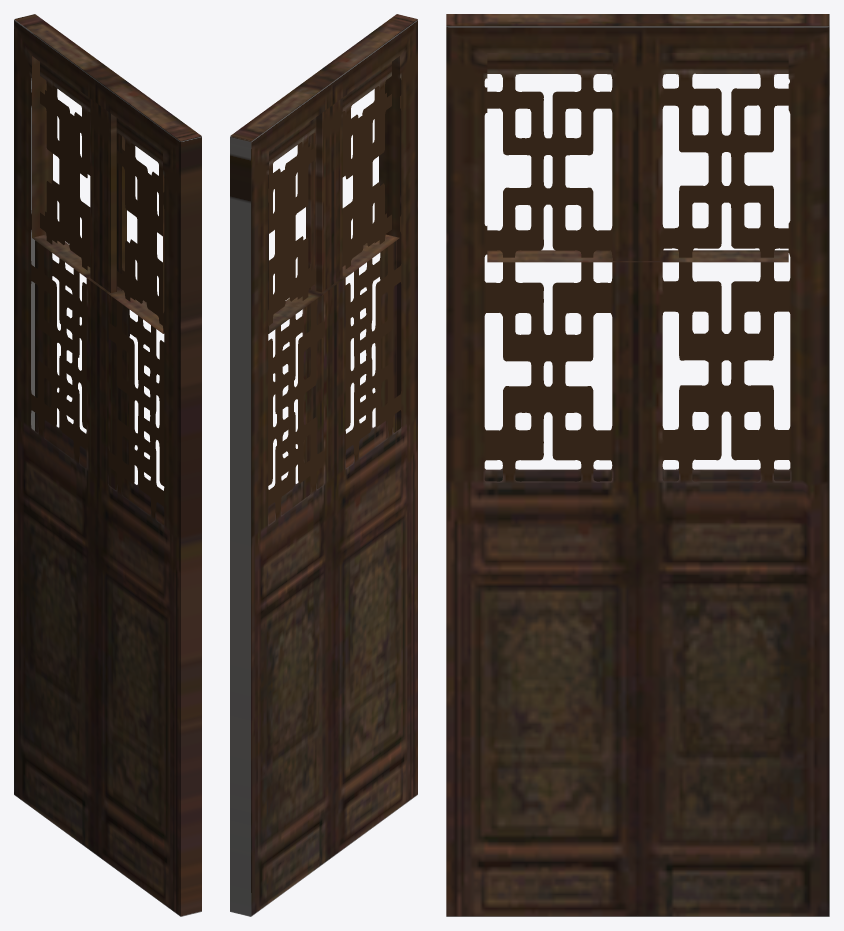
The model's file is Door_02.FBX.
The picture shows the model from 3 angles, left to right: view 1: azimuth 30°, elevation 25°; view 2: azimuth 150°, elevation 25°; view 3: azimuth 270°, elevation 25°; orthographic projection. The views are drawn at different scales.
Parts seen in each view (by area): view 1: Door_01; view 2: Door_01; view 3: Door_01.
Part boxes in pixels (x1=…): Door_01: x1=14, y1=14, x2=201, y2=916; Door_01: x1=230, y1=14, x2=417, y2=916; Door_01: x1=446, y1=14, x2=829, y2=916.
Size of the model in its own units: 2.91 by 102 by 39.9.
